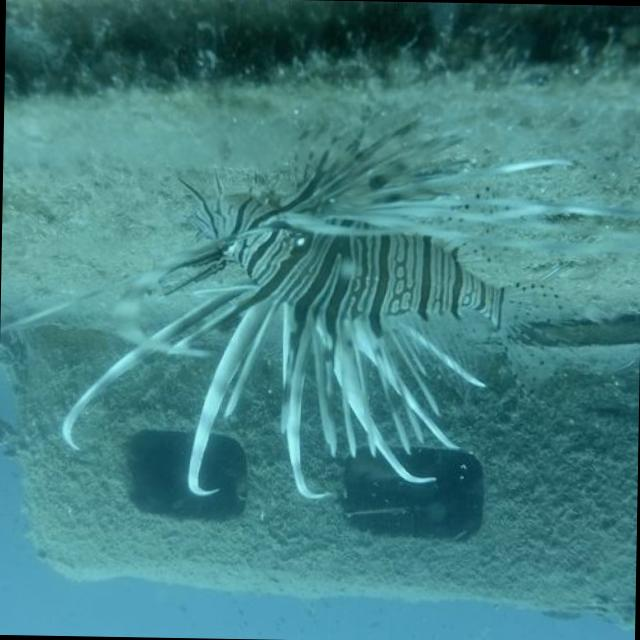Aslan Baligi: (54, 111, 640, 511)
